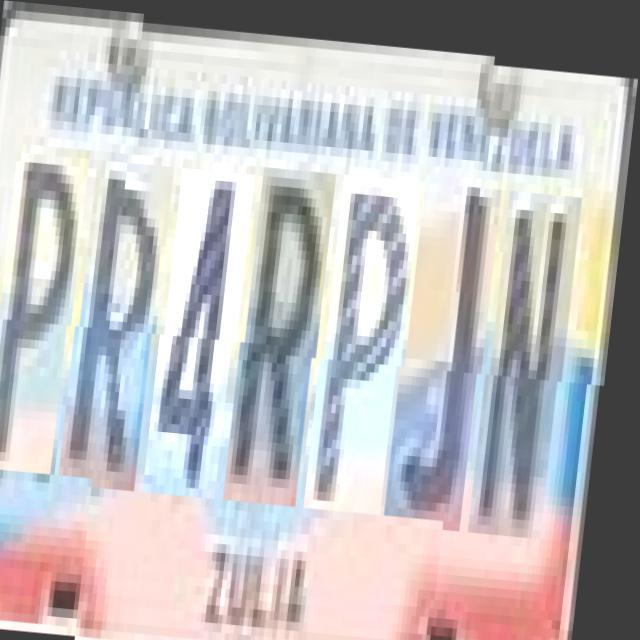4: (158, 164, 258, 494)
J: (400, 165, 506, 513)
N: (484, 172, 586, 518)
P: (318, 168, 424, 507), (0, 152, 93, 482)
R: (73, 158, 178, 488), (238, 162, 339, 500)
